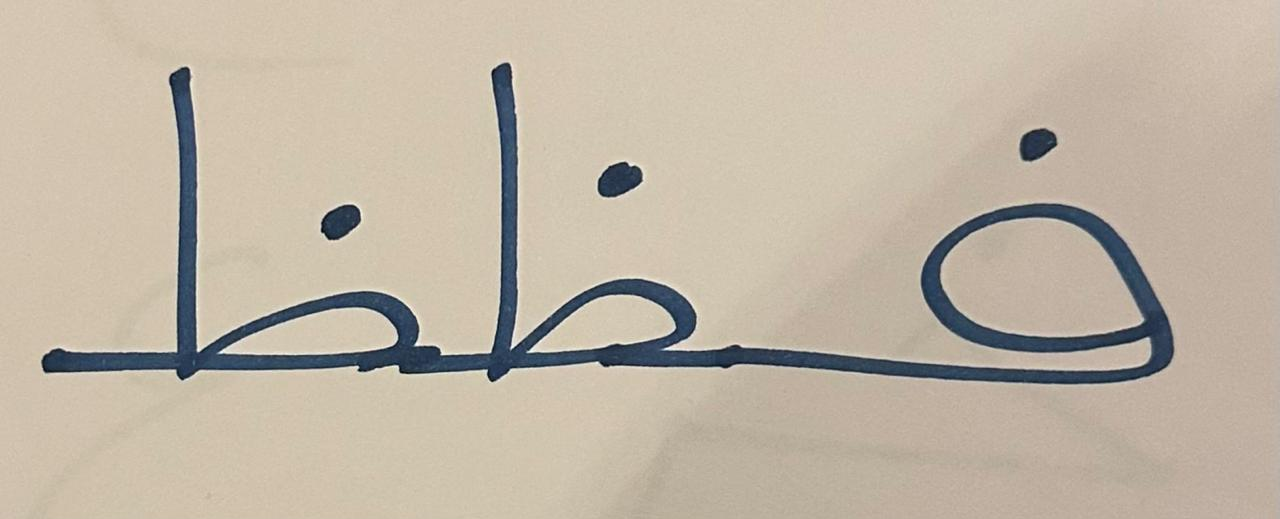feh: (763, 23, 1280, 469)
zain: (12, 25, 443, 455), (447, 17, 760, 440)
